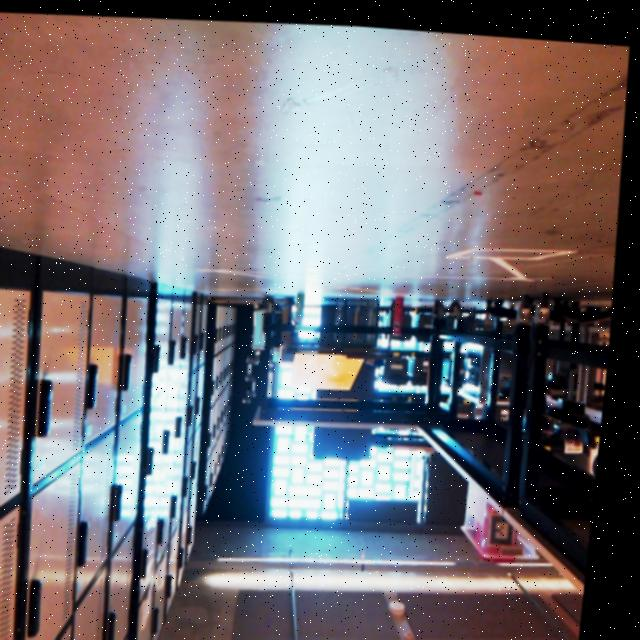greenpringles: (290, 277, 319, 326)
redpringles: (391, 284, 417, 333)
